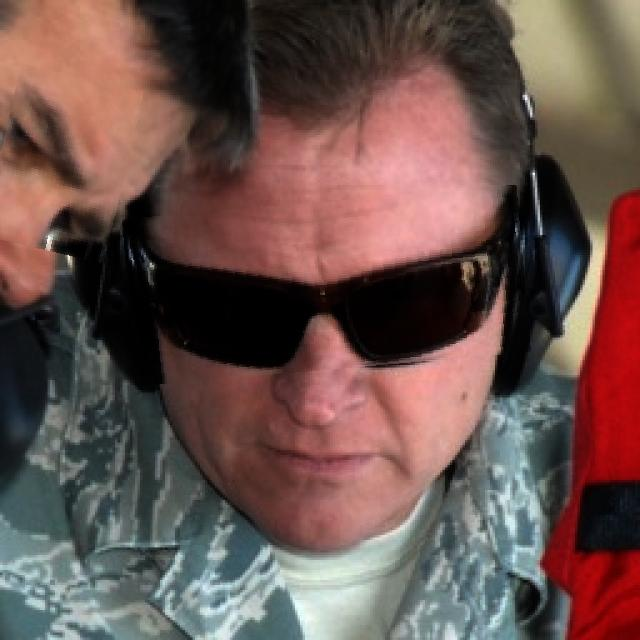glasses: (126, 193, 528, 378)
no-glasses: (0, 63, 113, 252)
